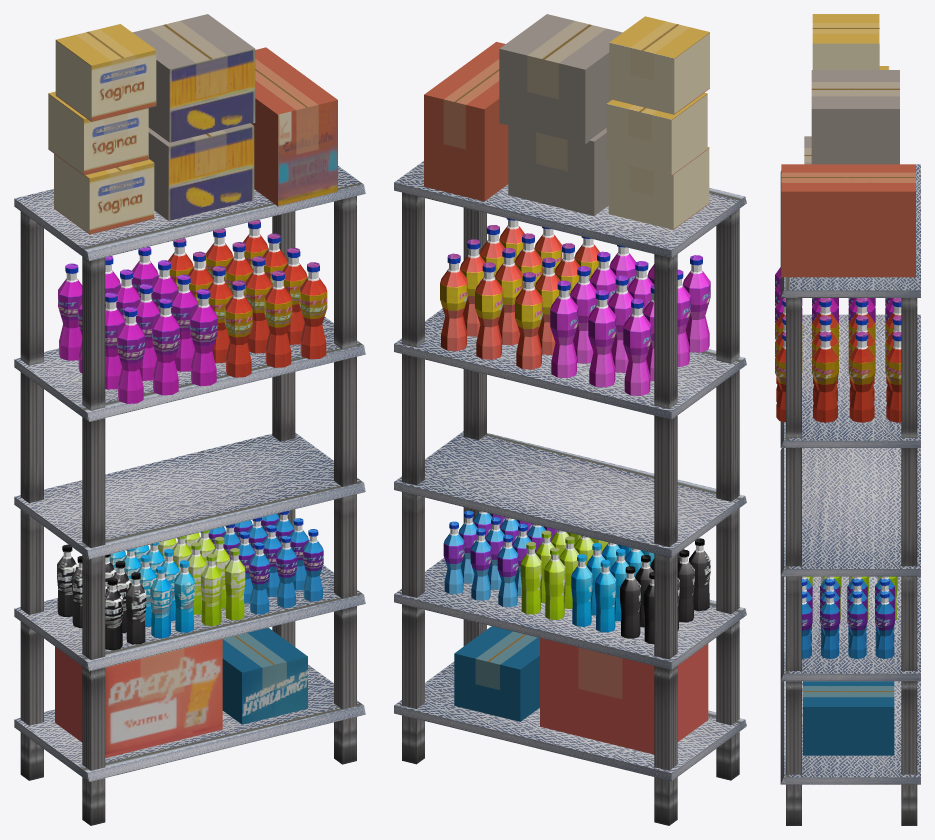
The model's file is shelf 3.FBX.
The picture shows the model from 3 angles, left to right: view 1: azimuth 30°, elevation 25°; view 2: azimuth 150°, elevation 25°; view 3: azimuth 270°, elevation 25°; orthographic projection. The views are drawn at different scales.
Parts seen in each view (by area): view 1: 板架012, 紙箱010, 腳架010, 腳架011, 腳架008, 紙箱019, 紙箱018, 板架010, 紙箱017, 紙箱016, 板架014, 板架011 (+43 smaller); view 2: 板架012, 紙箱010, 腳架008, 紙箱019, 腳架009, 腳架010, 紙箱018, 板架011, 板架010, 板架013, 板架014, 紙箱016 (+39 smaller); view 3: 紙箱018, 板架012, 紙箱019, 腳架009, 腳架011, 板架013, 紙箱011, 板架011, 板架010, 紙箱016, 板架014, 礦泉水283 (+17 smaller).
Boxes of the visible parts, x1,y1,x2,y2 form: 板架012: (14, 433, 365, 559); 紙箱010: (55, 639, 222, 757); 腳架010: (82, 256, 105, 825); 腳架011: (334, 196, 356, 764); 腳架008: (20, 211, 43, 780); 紙箱019: (132, 14, 255, 142); 紙箱018: (251, 47, 337, 206); 板架010: (14, 664, 365, 781); 紙箱017: (148, 123, 254, 220); 紙箱016: (55, 24, 156, 121); 板架014: (14, 166, 365, 261); 板架011: (14, 565, 365, 671); 板架012: (394, 431, 746, 557); 紙箱010: (540, 638, 708, 754); 腳架008: (654, 254, 677, 825); 紙箱019: (499, 14, 622, 144); 腳架009: (402, 192, 424, 764); 腳架010: (716, 209, 739, 780); 紙箱018: (424, 42, 508, 201); 板架011: (394, 558, 746, 669); 板架010: (394, 661, 746, 781); 板架013: (394, 308, 746, 419); 板架014: (394, 161, 746, 258); 紙箱016: (609, 16, 709, 114); 紙箱018: (781, 164, 915, 277); 板架012: (780, 448, 920, 576); 紙箱019: (811, 70, 899, 164); 腳架009: (901, 298, 917, 825); 腳架011: (786, 298, 801, 825); 板架013: (780, 314, 920, 447); 紙箱011: (803, 681, 894, 755); 板架011: (780, 576, 920, 681); 板架010: (780, 681, 920, 784); 紙箱016: (812, 14, 879, 69); 板架014: (780, 164, 920, 297); 礦泉水283: (848, 331, 875, 422).
Bounding box in the file's own units: 565 × 1456 × 276.
13 materials, 13 textured.
